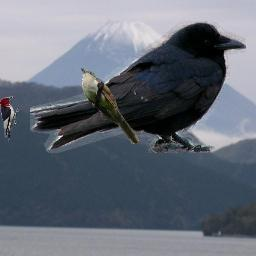Crow: (30, 21, 246, 153)
Cuckoo: (81, 68, 139, 144)
Woodpecker: (0, 96, 19, 142)
